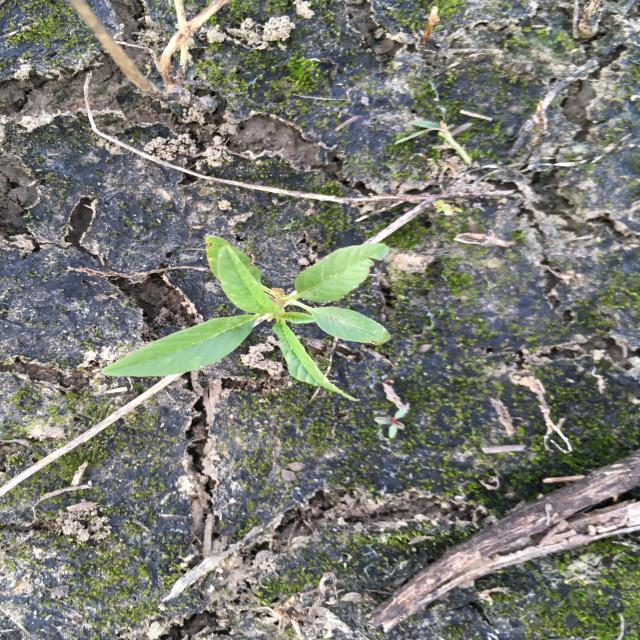Waterhemp: (98, 233, 394, 403)
